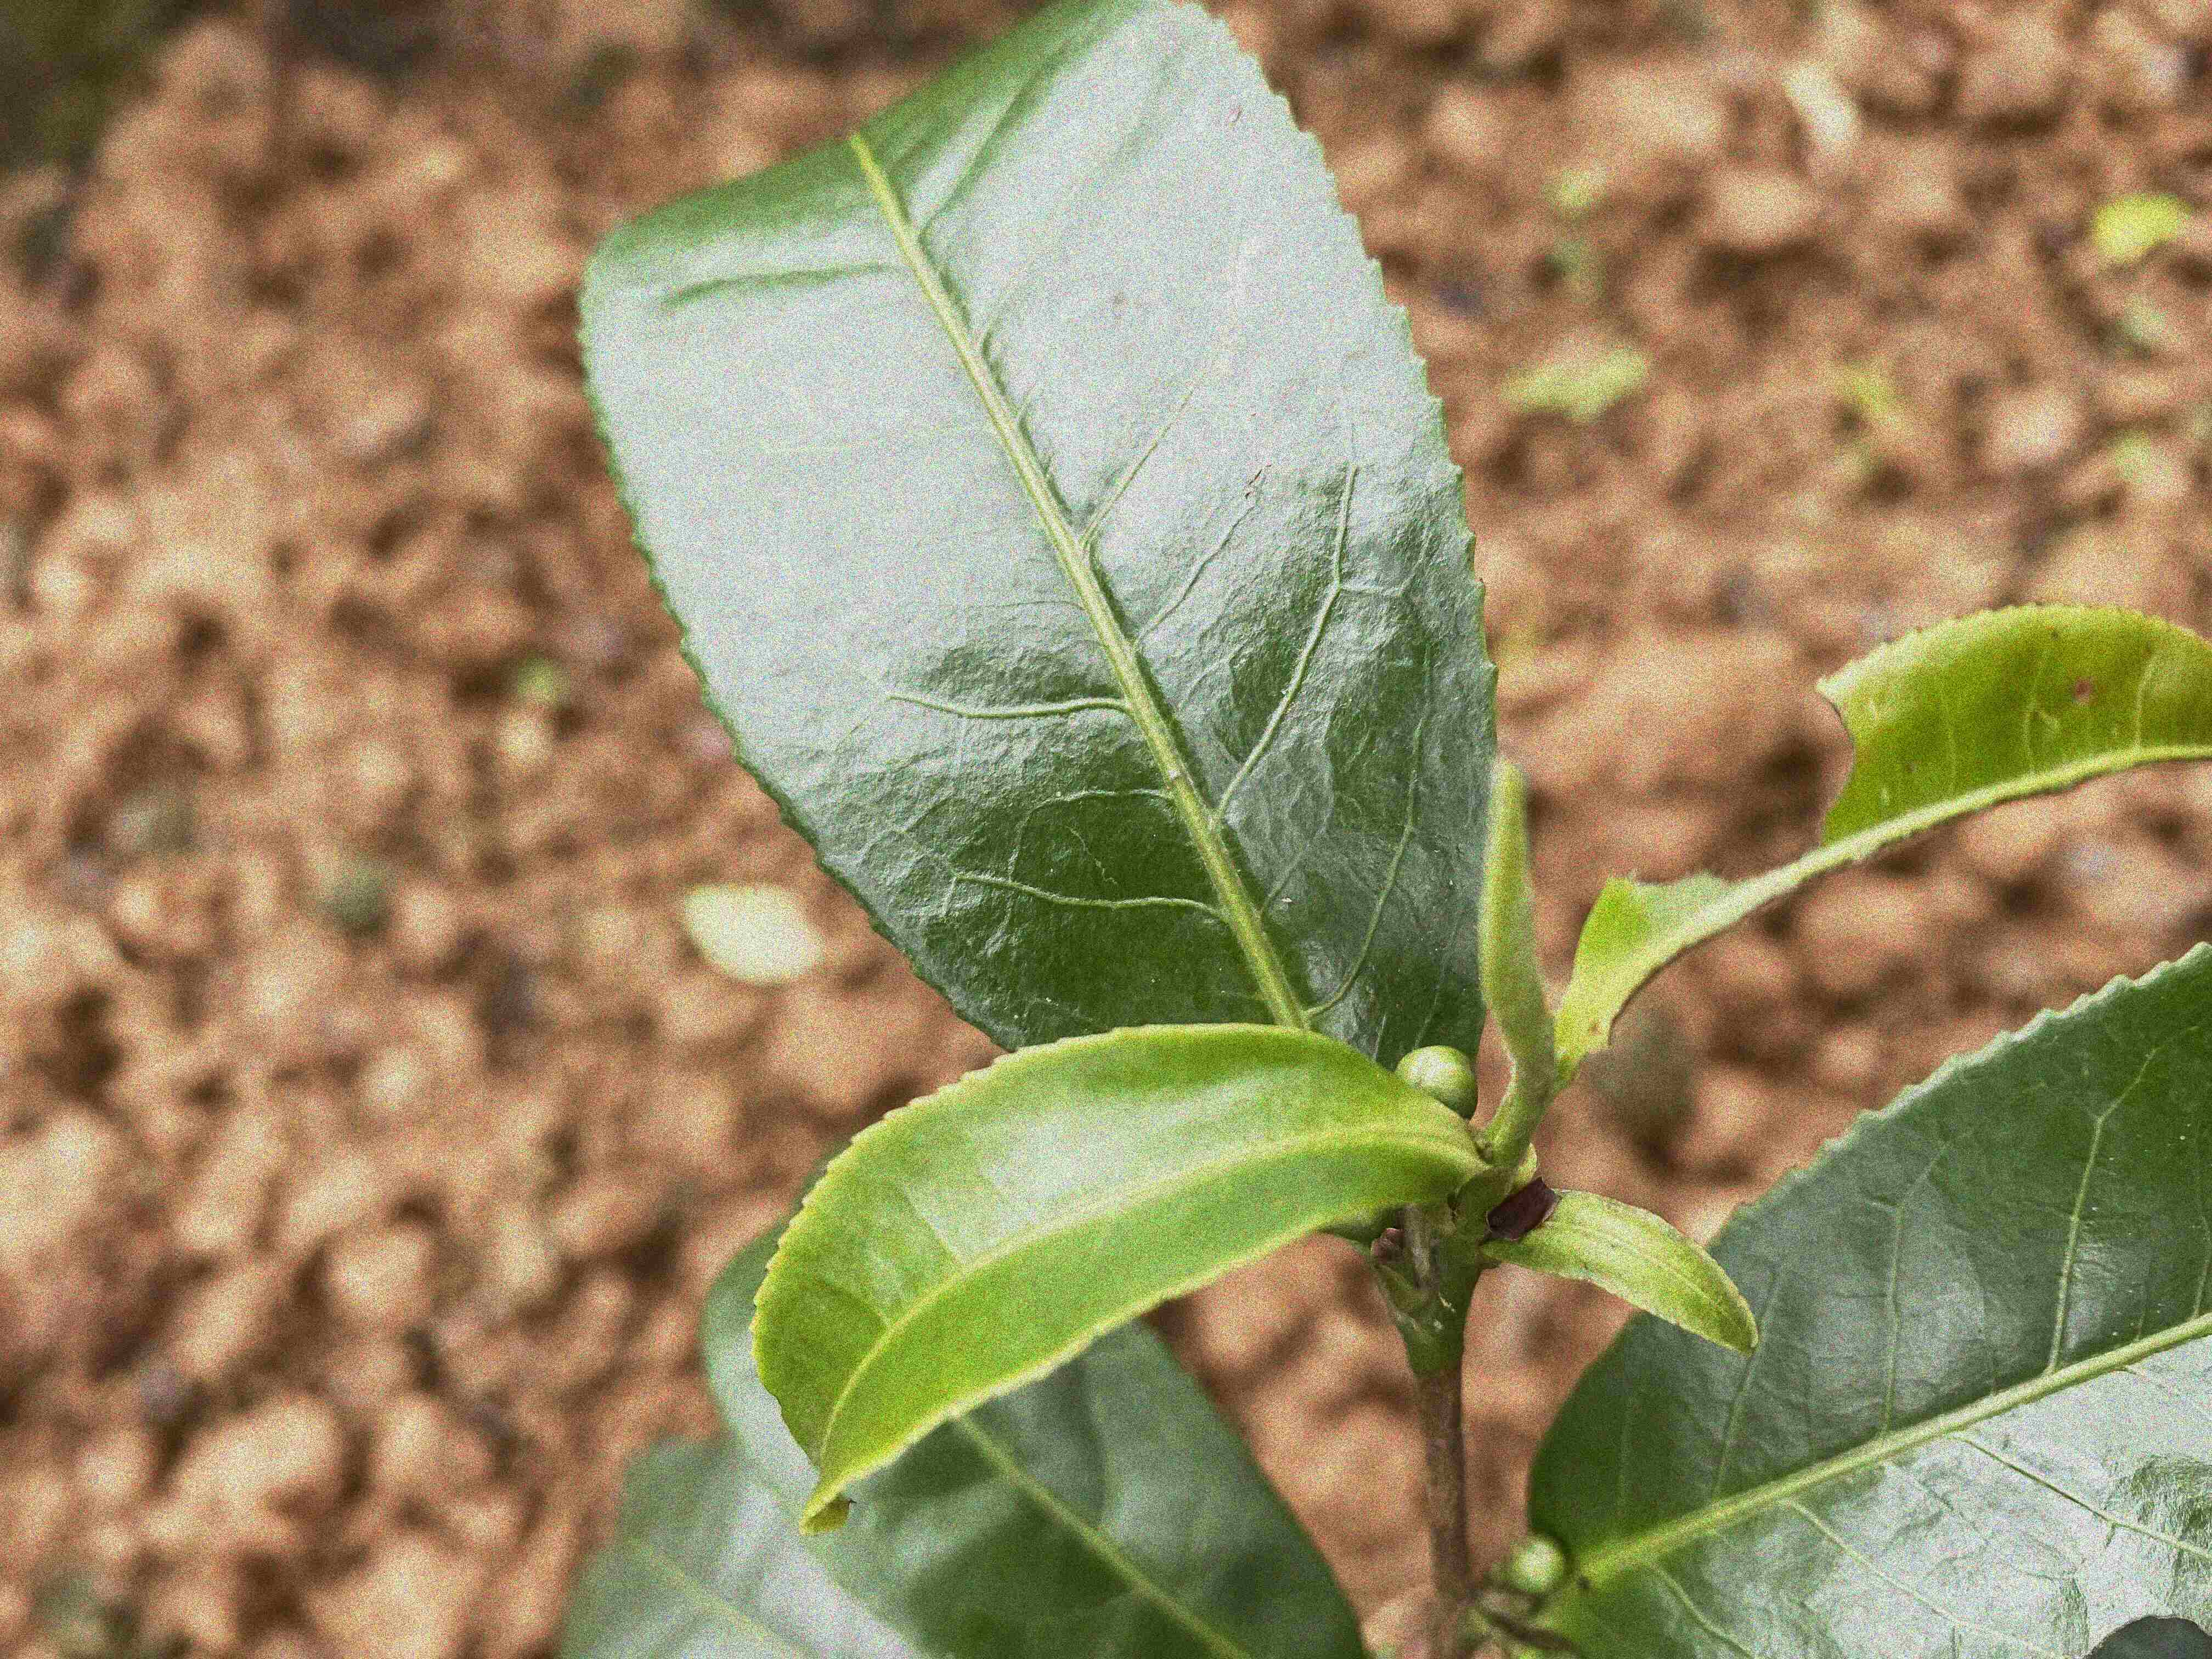chihuo_high: (1562, 605, 2209, 1073)
chihuo_low: (1522, 946, 2210, 1656)
healthy: (744, 1021, 1477, 1535)
tanju_low: (580, 0, 1501, 1243)
